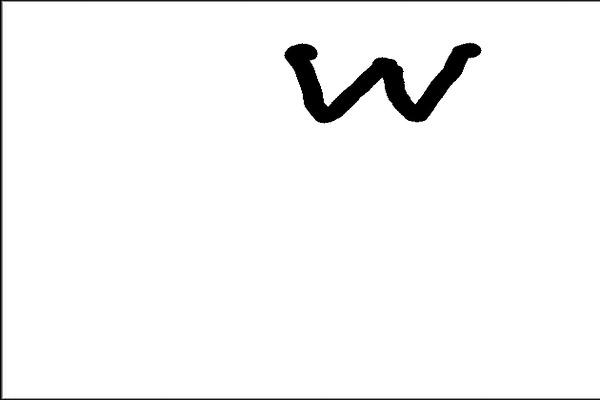w: (266, 29, 484, 144)
